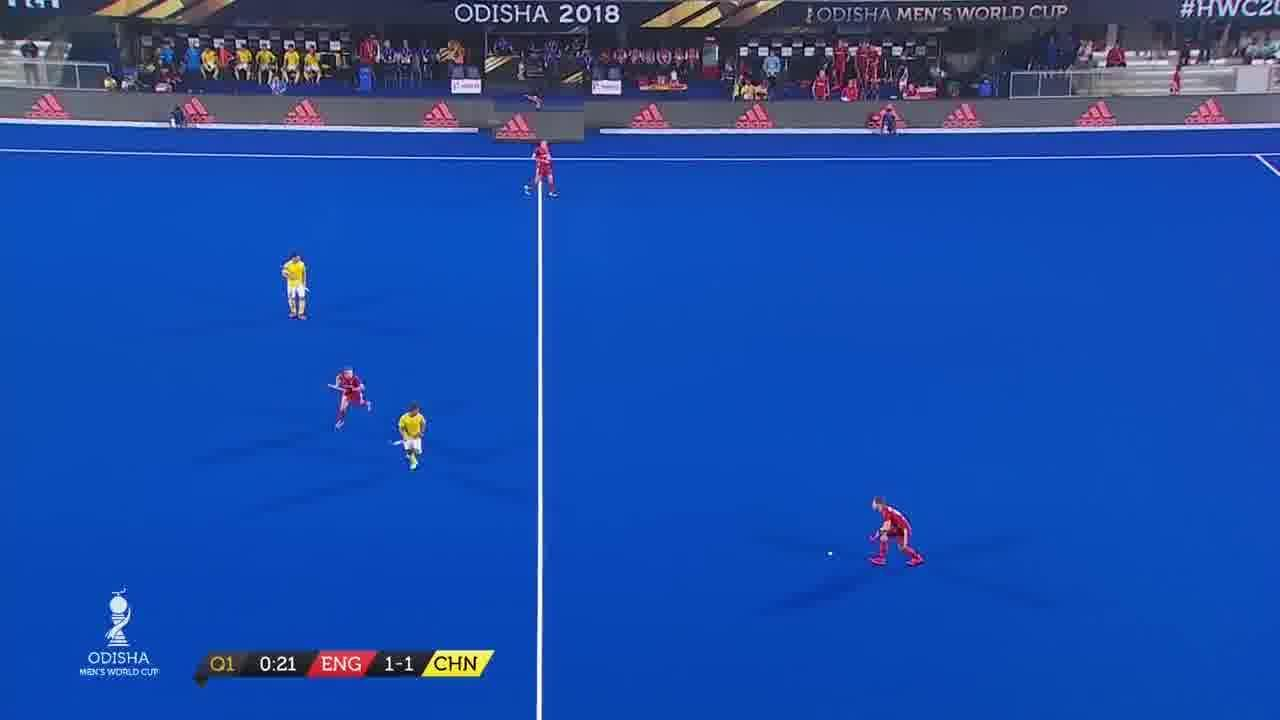ball: (824, 539, 848, 565)
